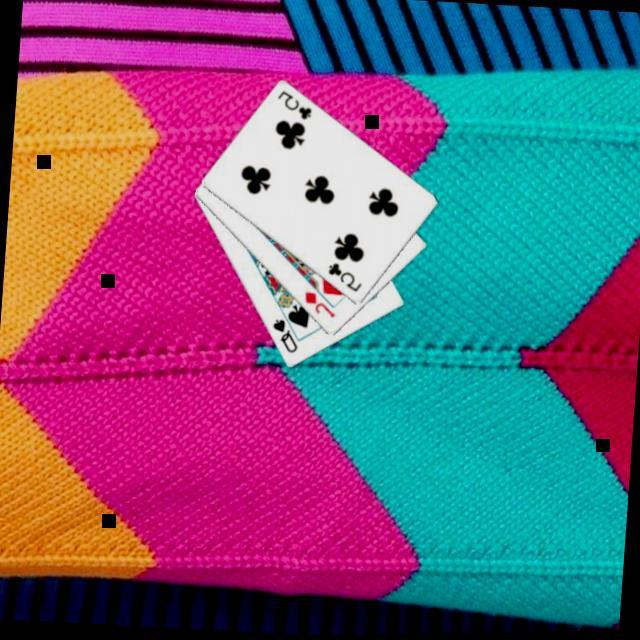5C: (321, 259, 364, 297), (271, 86, 313, 123)
JD: (298, 288, 338, 321)
QS: (265, 315, 300, 357)
